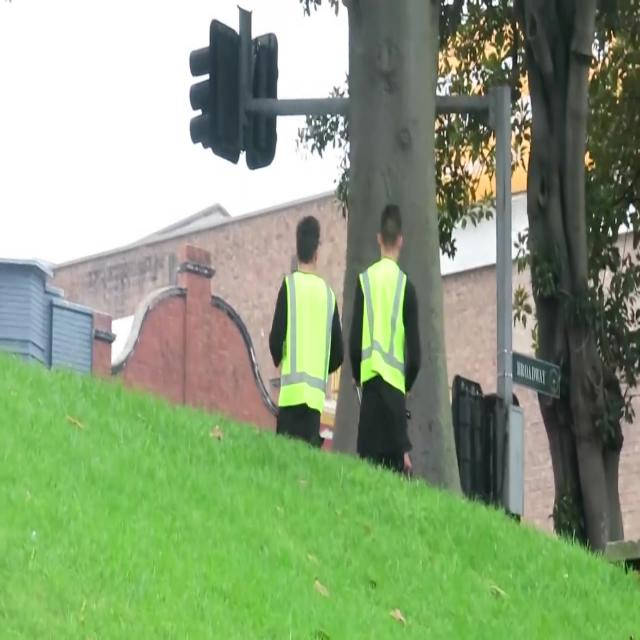Reflective-Jacket: (270, 268, 344, 422), (349, 255, 419, 405)
